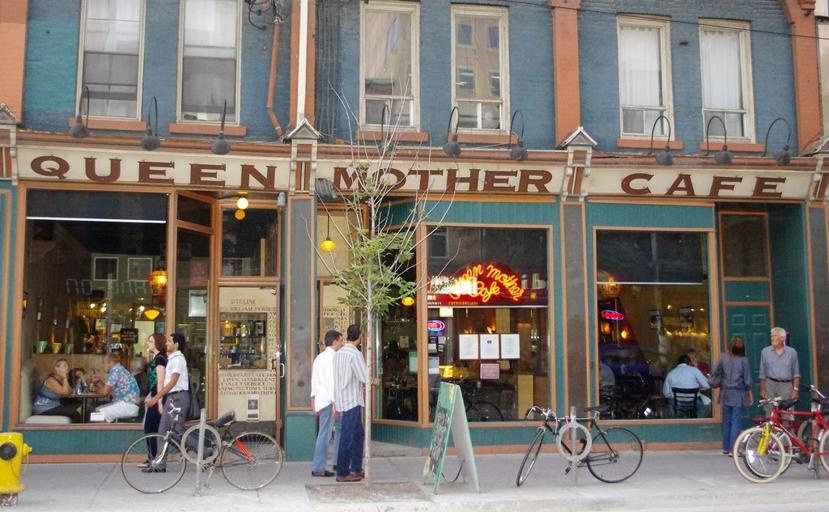non-vehicle: (116, 397, 286, 496), (514, 403, 645, 490), (732, 392, 829, 483), (743, 382, 828, 479), (451, 378, 506, 422)
